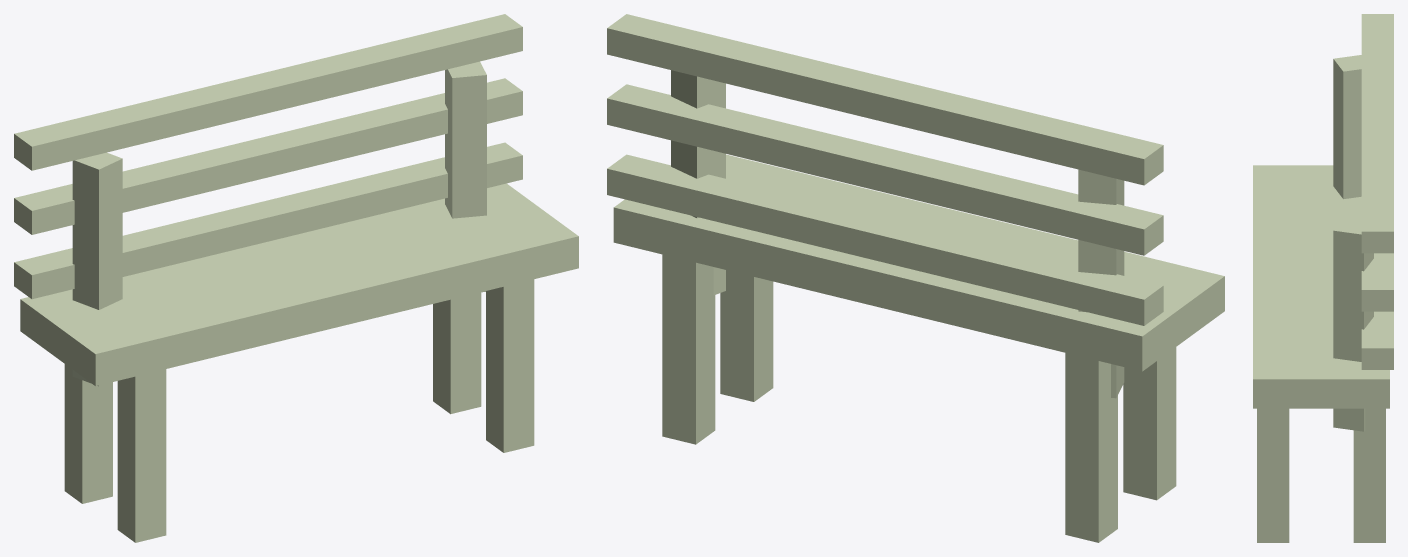
File: furniture_bus_stop_bench.glb
The picture shows the model from 3 angles, left to right: view 1: azimuth 30°, elevation 25°; view 2: azimuth 150°, elevation 25°; view 3: azimuth 270°, elevation 25°; orthographic projection. The views are drawn at different scales.
Visible parts, largest first — view 1: seat, slat_back_0, slat_back_2, slat_back_1, leg_left_front, leg_right_front, brace_left, brace_right, leg_left_back, leg_right_back; view 2: seat, slat_back_0, slat_back_1, slat_back_2, leg_right_back, leg_left_back, leg_left_front, leg_right_front, brace_right, brace_left; view 3: seat, slat_back_0, brace_right, leg_right_front, leg_right_back, brace_left, slat_back_1, slat_back_2.
Part boxes in pixels (x1,y1,x2,y2): seat: [20, 183, 578, 386]; slat_back_0: [14, 14, 522, 170]; slat_back_2: [14, 142, 522, 299]; slat_back_1: [14, 78, 522, 234]; leg_left_front: [117, 369, 166, 542]; leg_right_front: [486, 279, 534, 452]; brace_left: [72, 152, 122, 386]; brace_right: [445, 61, 486, 292]; leg_left_back: [64, 364, 112, 503]; leg_right_back: [433, 292, 481, 414]; seat: [613, 154, 1224, 371]; slat_back_0: [607, 14, 1163, 185]; slat_back_1: [607, 84, 1163, 255]; slat_back_2: [607, 154, 1163, 325]; leg_right_back: [662, 254, 715, 444]; leg_left_back: [1065, 353, 1117, 542]; leg_left_front: [1123, 347, 1176, 500]; leg_right_front: [720, 270, 773, 401]; brace_right: [671, 70, 725, 295]; brace_left: [1078, 169, 1124, 398]; seat: [1253, 165, 1389, 408]; slat_back_0: [1361, 14, 1393, 253]; brace_right: [1333, 217, 1373, 431]; leg_right_front: [1257, 408, 1289, 542]; leg_right_back: [1353, 408, 1385, 542]; brace_left: [1333, 55, 1361, 199]; slat_back_1: [1361, 253, 1393, 311]; slat_back_2: [1361, 311, 1393, 369].
Size of the model in its own units: 1.28 by 0.91 by 0.35.
